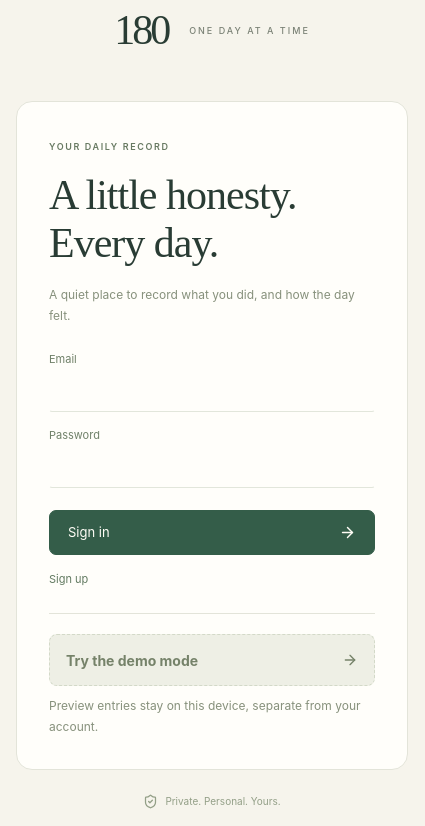
Test: retains duplicate-email errors and the eight-character password minimum
Click the button "Sign up": {"x": 69, "y": 579} [49,571,88,588]
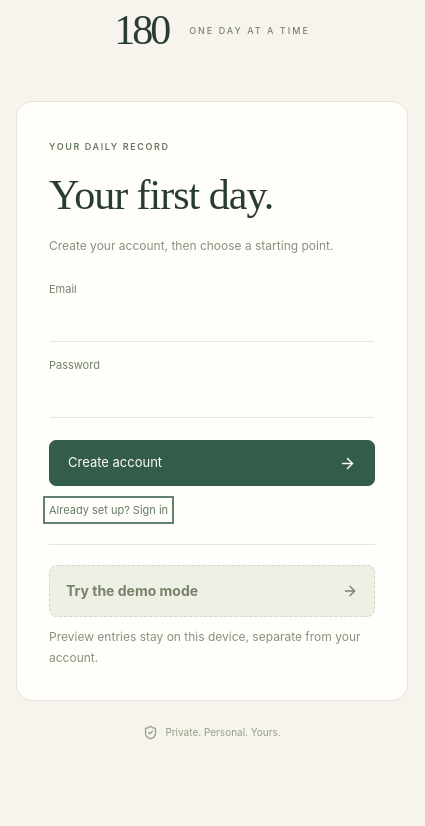
In the field labelled "Email": {"x": 212, "y": 324} [49,305,375,342], type "someone@example.test"
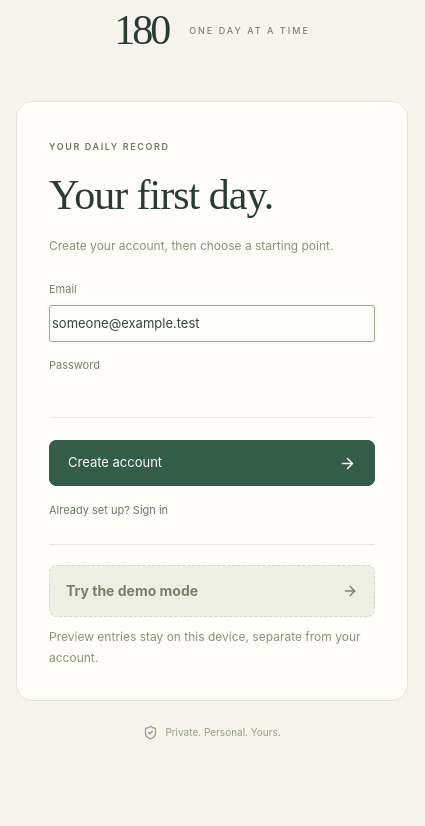
Check: the password field labelled "Password" has attribute minlength="8"
In the password field labelled "Password": {"x": 212, "y": 400} [49,381,375,418], type "test-password"
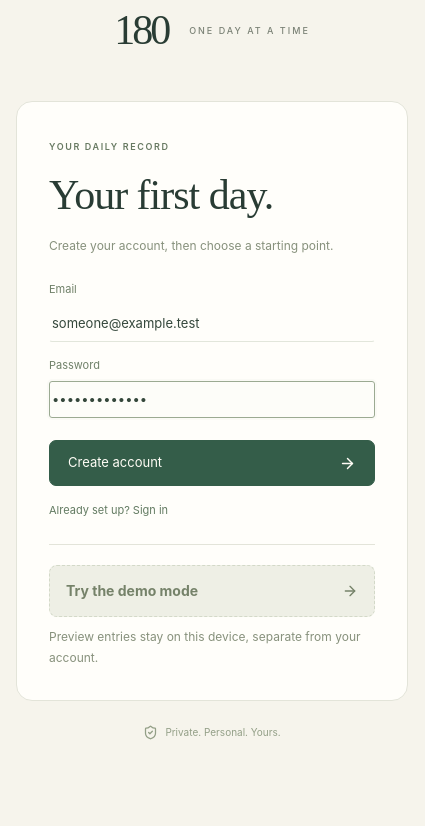
Click the button "Create account": {"x": 115, "y": 462} [49,440,375,486]
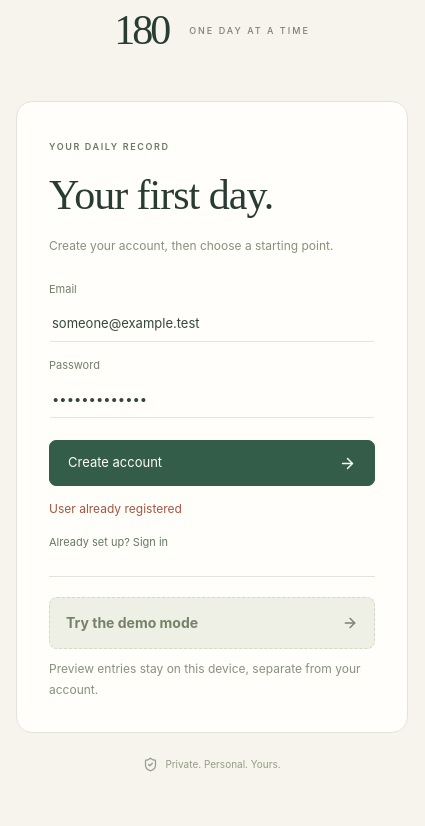
Check: the message reads "User already registered", box [49,501,182,516]
